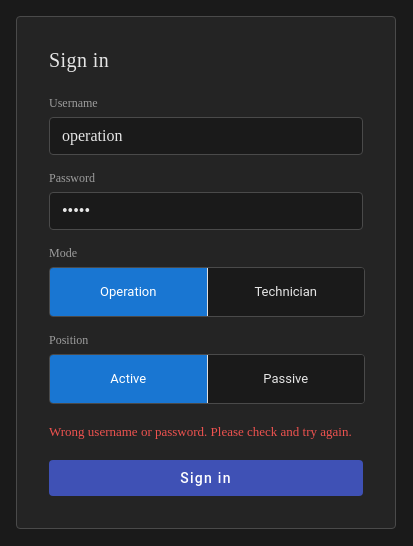
Test: LoginPageComponent › error states › clears the error as soon as the user edits the form
In the password field with id "login-password": [206, 210] box x1=49 y1=192 x2=363 y2=230, type "corrected"
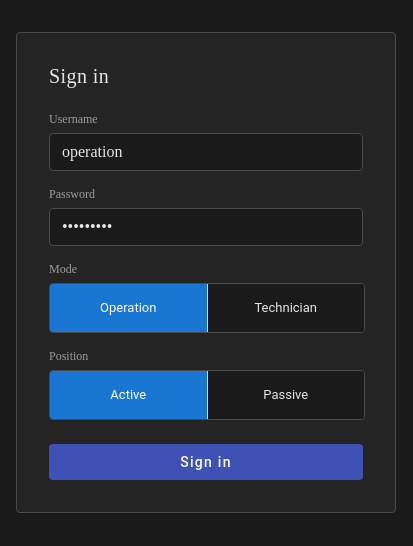
Now the message with class "login-card__error" is gone
